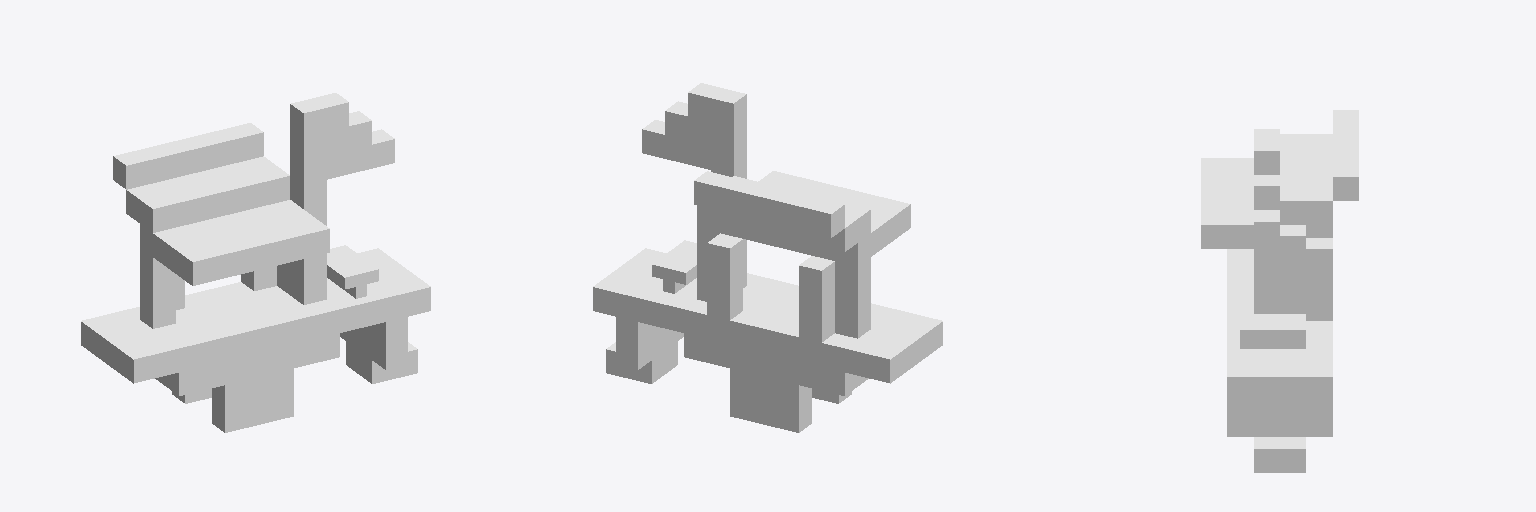
Rendered from hot_dog_cart.obj.
The picture shows the model from 3 angles: view 1: azimuth 30°, elevation 25°; view 2: azimuth 150°, elevation 25°; view 3: azimuth 270°, elevation 25°; orthographic projection.
Size of the model in its own units: 26 by 24 by 12.